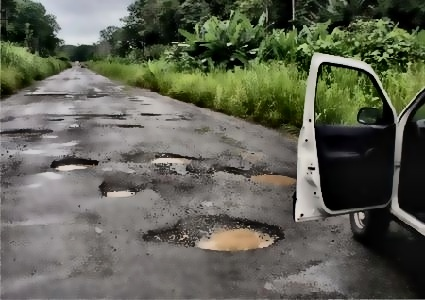pothole: (141, 212, 286, 252), (244, 167, 298, 185), (48, 156, 98, 171), (98, 181, 137, 199), (150, 152, 193, 165), (0, 126, 50, 137), (115, 121, 144, 129)
